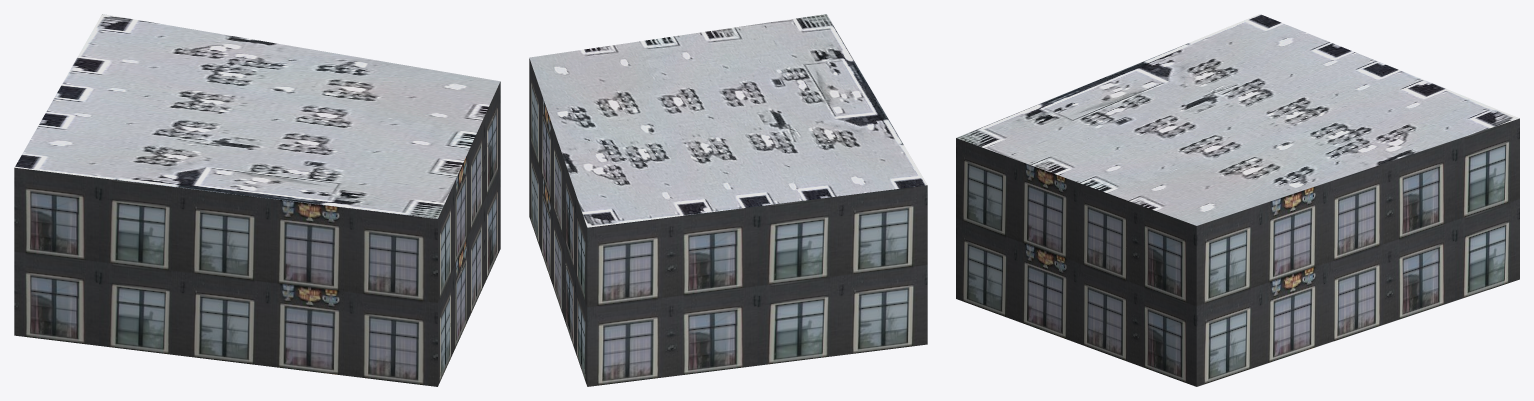
File: ResTex__1473.fbx
The picture shows the model from 3 angles, left to right: view 1: azimuth 30°, elevation 25°; view 2: azimuth 150°, elevation 25°; view 3: azimuth 270°, elevation 25°; orthographic projection. The views are drawn at different scales.
Visible parts, largest first — view 1: CityEngineMaterial_22_m, CityEngineMaterial_4_m; view 2: CityEngineMaterial_22_m, CityEngineMaterial_4_m; view 3: CityEngineMaterial_22_m, CityEngineMaterial_4_m.
Part boxes in pixels (x1,y1,x2,y2): CityEngineMaterial_22_m: (14, 81, 500, 386); CityEngineMaterial_4_m: (14, 14, 500, 218); CityEngineMaterial_22_m: (529, 58, 927, 386); CityEngineMaterial_4_m: (529, 14, 927, 227); CityEngineMaterial_22_m: (956, 118, 1519, 386); CityEngineMaterial_4_m: (956, 14, 1519, 225).
Bounding box in the file's own units: 16.94 × 6 × 19.05.
2 materials, 2 textured.
